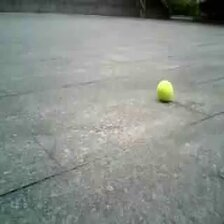tennis: (157, 81, 172, 101)
